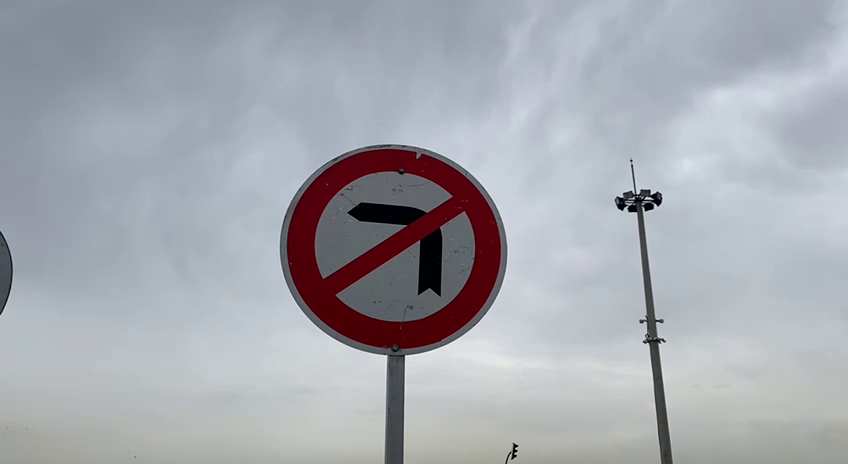noTurnLeft: (274, 135, 515, 358)
